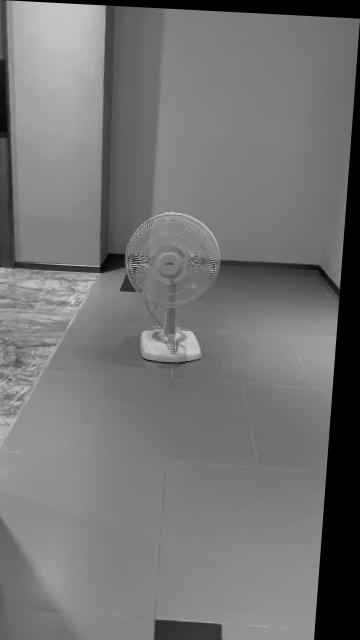Fan: (129, 210, 224, 362)
